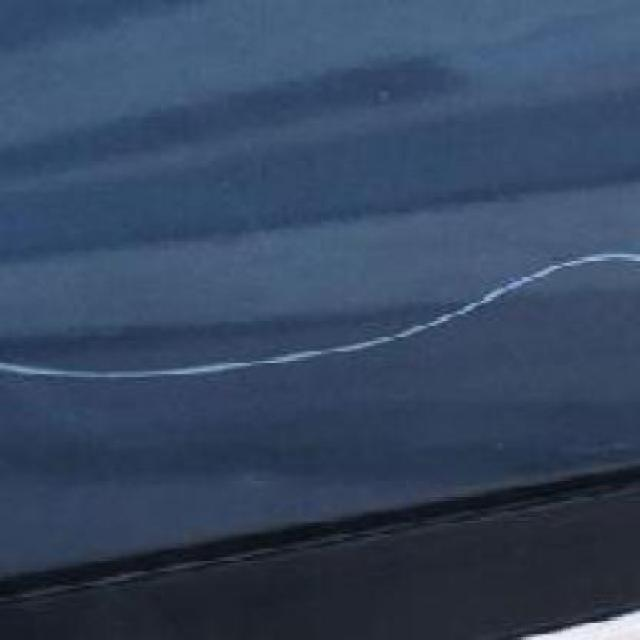dent-or-scratch: (1, 222, 640, 403)
